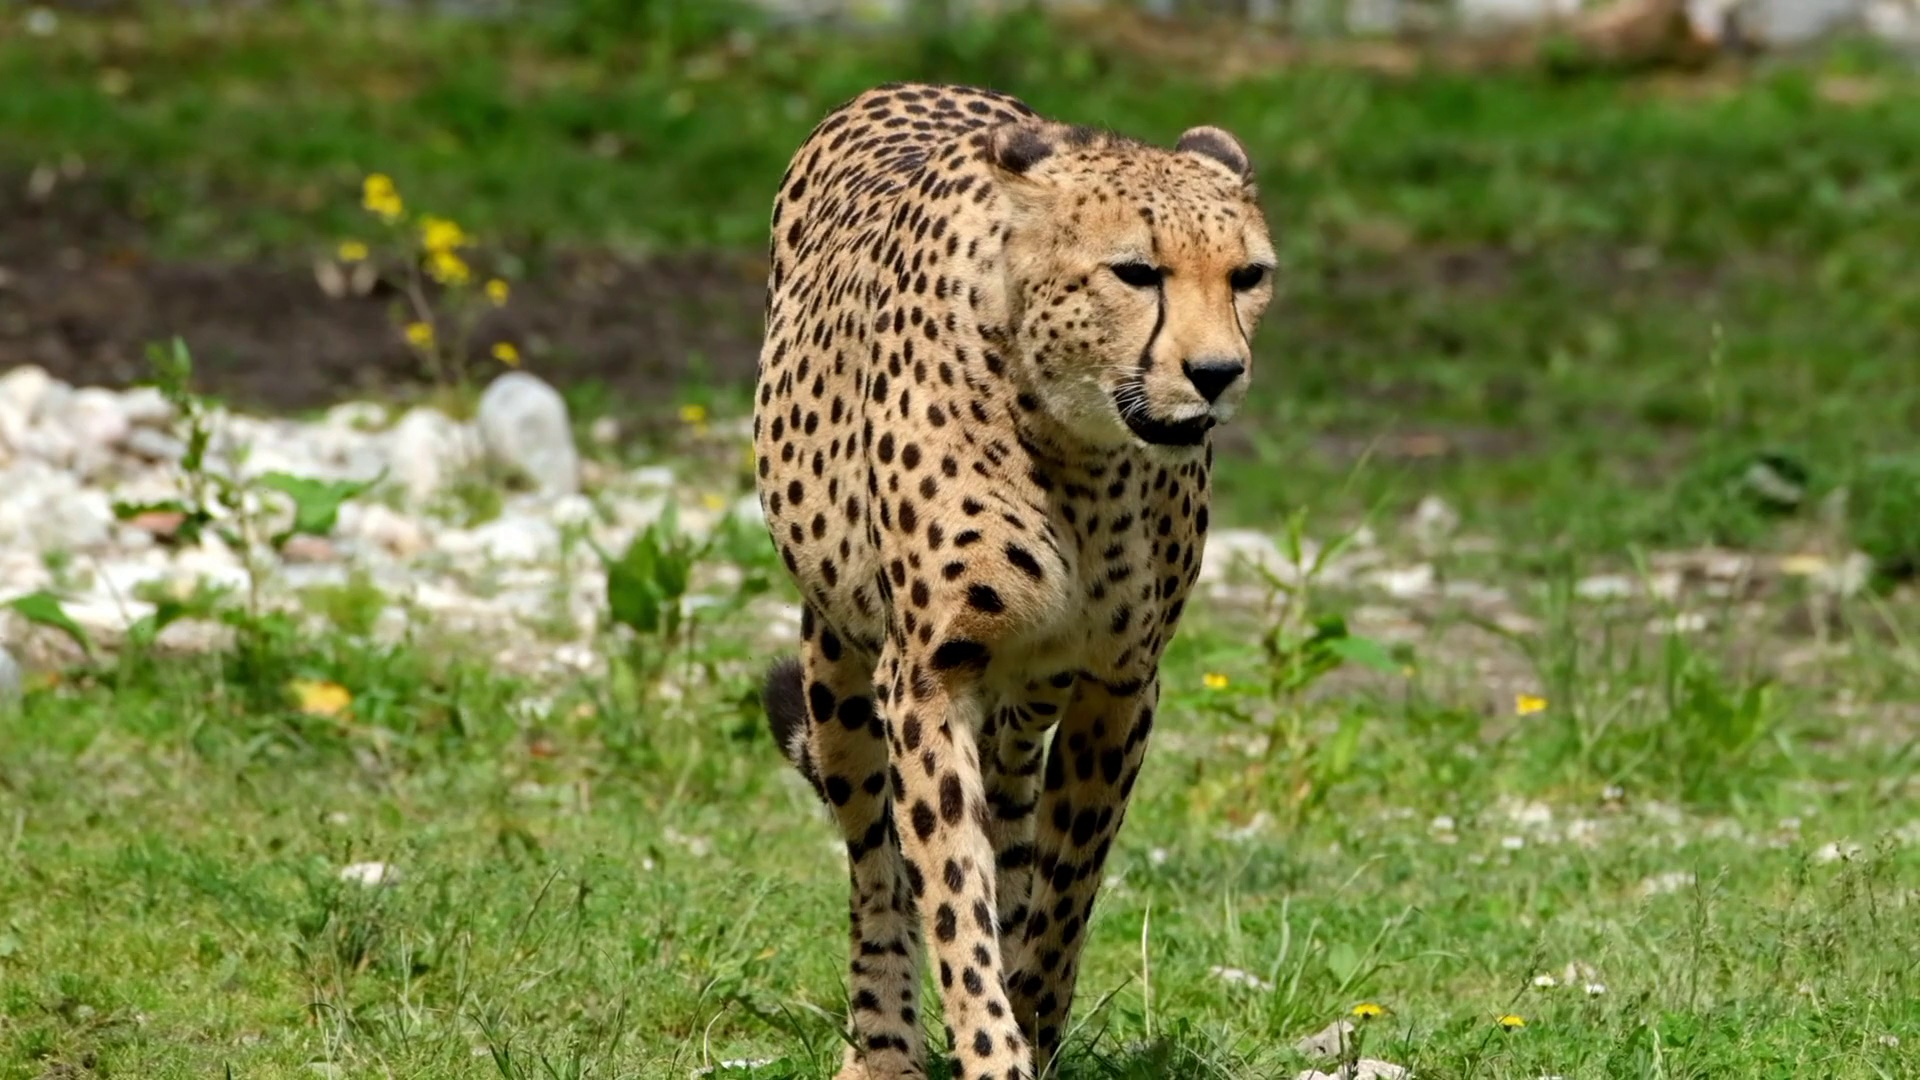Cheetah: (748, 78, 1287, 1080)
